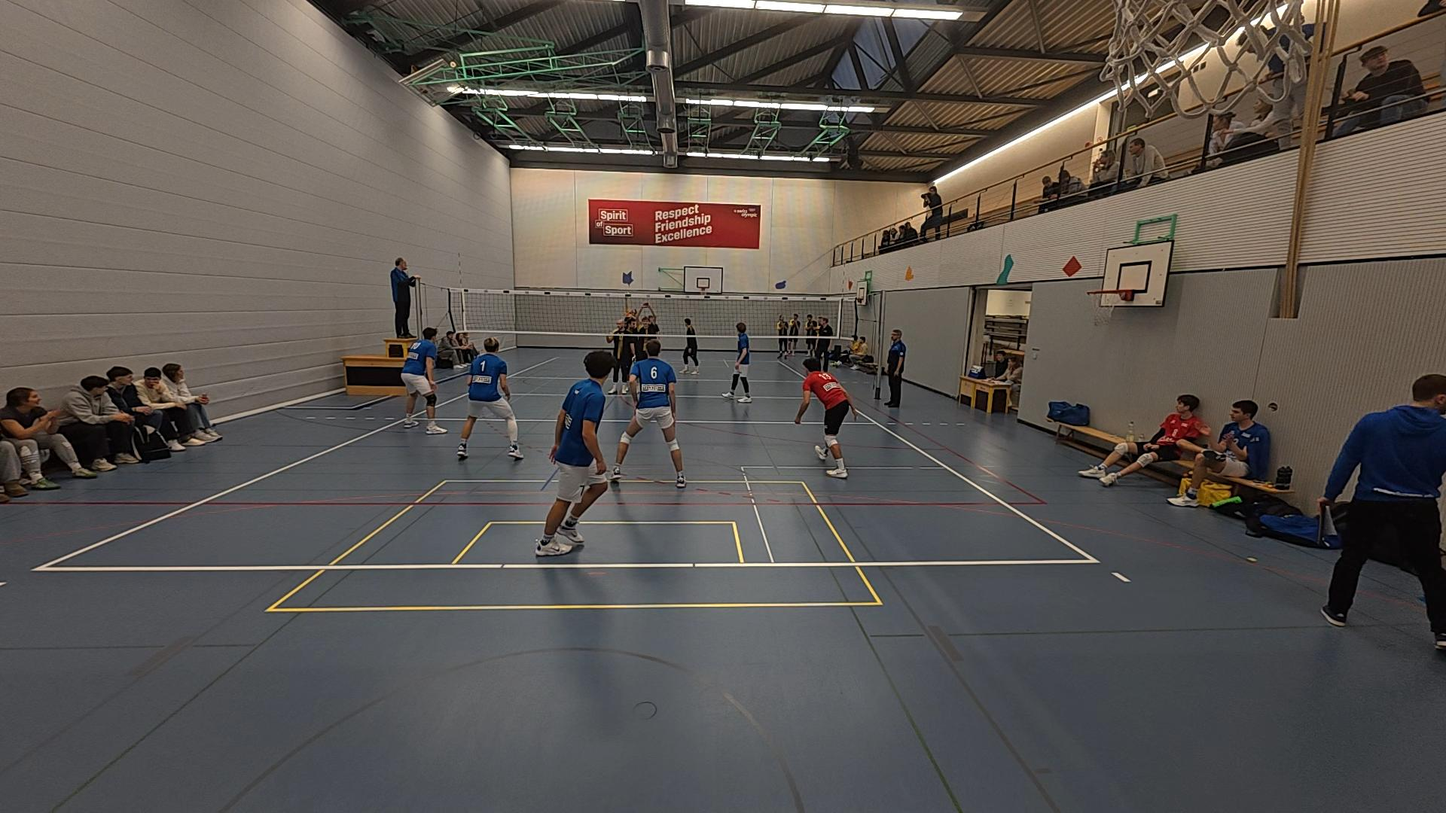Player: (534, 352, 609, 557), (610, 341, 687, 489), (456, 338, 522, 461), (793, 358, 855, 478), (401, 327, 444, 434), (605, 319, 634, 399), (727, 322, 754, 403), (635, 299, 657, 393), (679, 315, 701, 375), (642, 306, 664, 358)
Serve: (620, 288, 638, 321)
ball: (901, 264, 916, 281), (625, 292, 632, 298)
